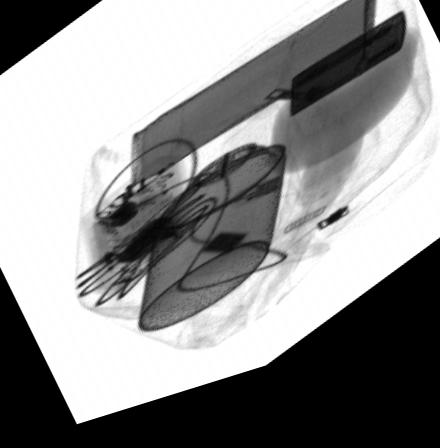Lighter: (289, 33, 407, 137)
Sprayer: (137, 120, 282, 343)
